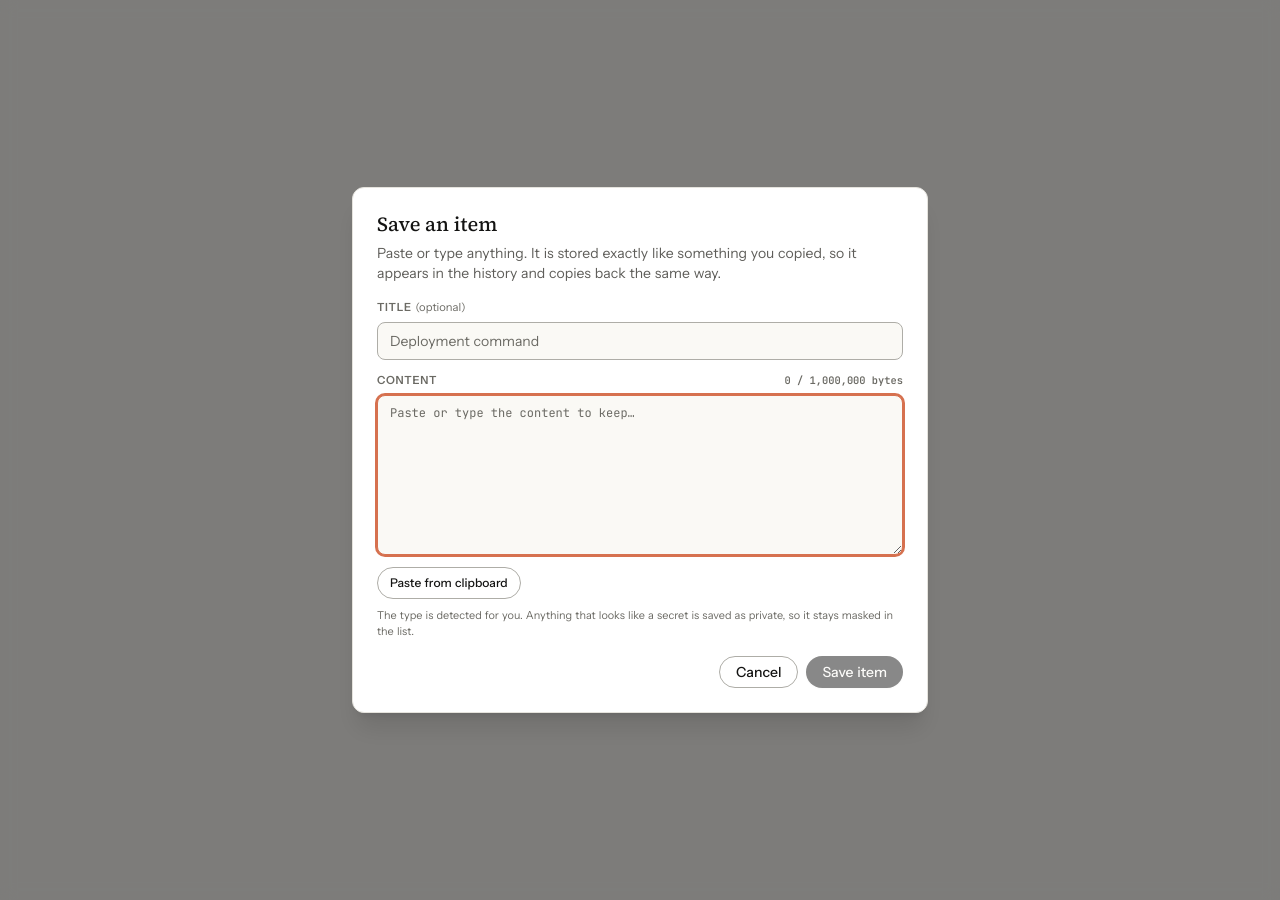
Test: SaveItemDialog › fills the content from the system clipboard
Click the button "Paste from clipboard": (449, 583) [377, 567, 521, 599]
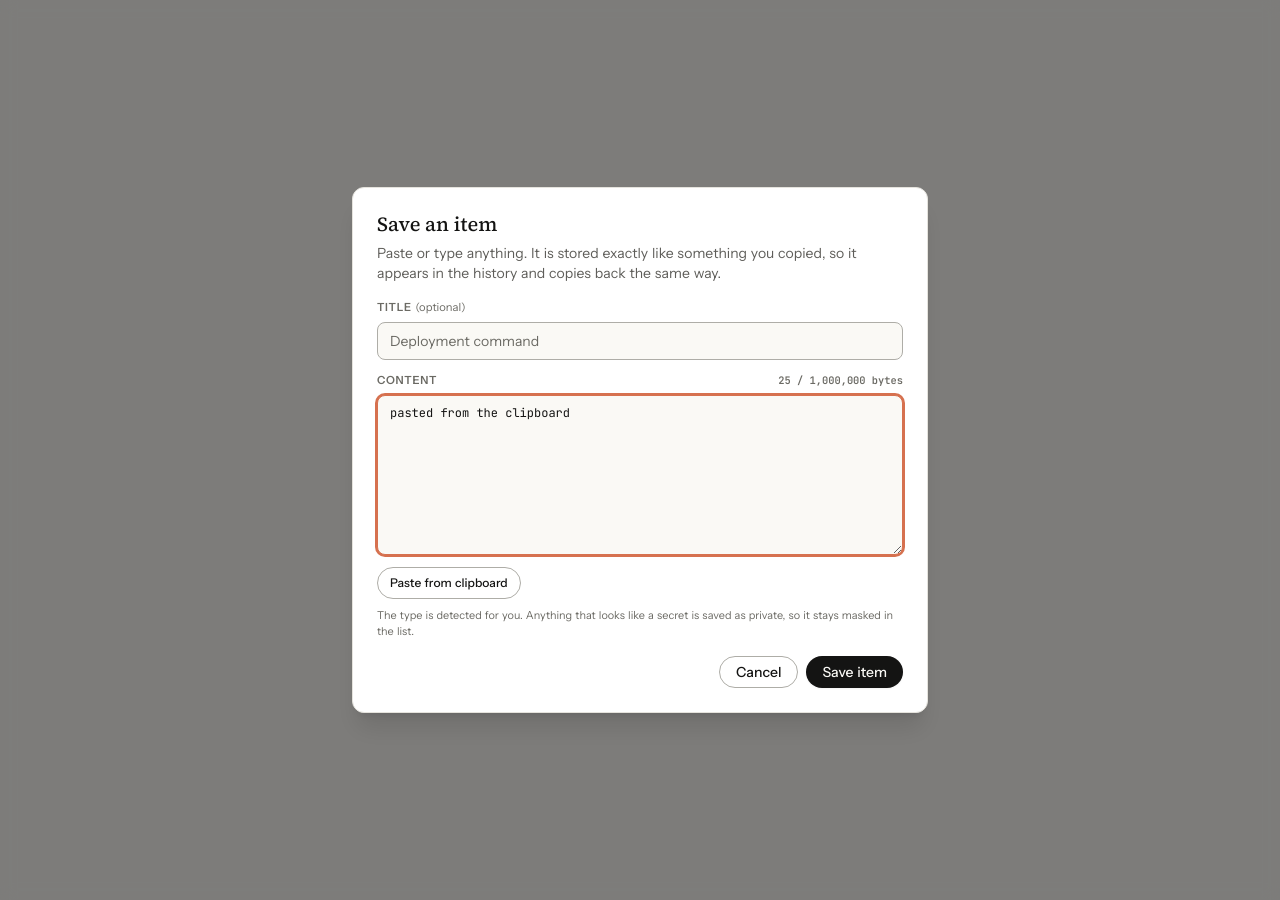
expect the text box labelled "Content 25 / 1,000,000 bytes" holds "pasted from the clipboard": met, box [377, 395, 903, 555]
